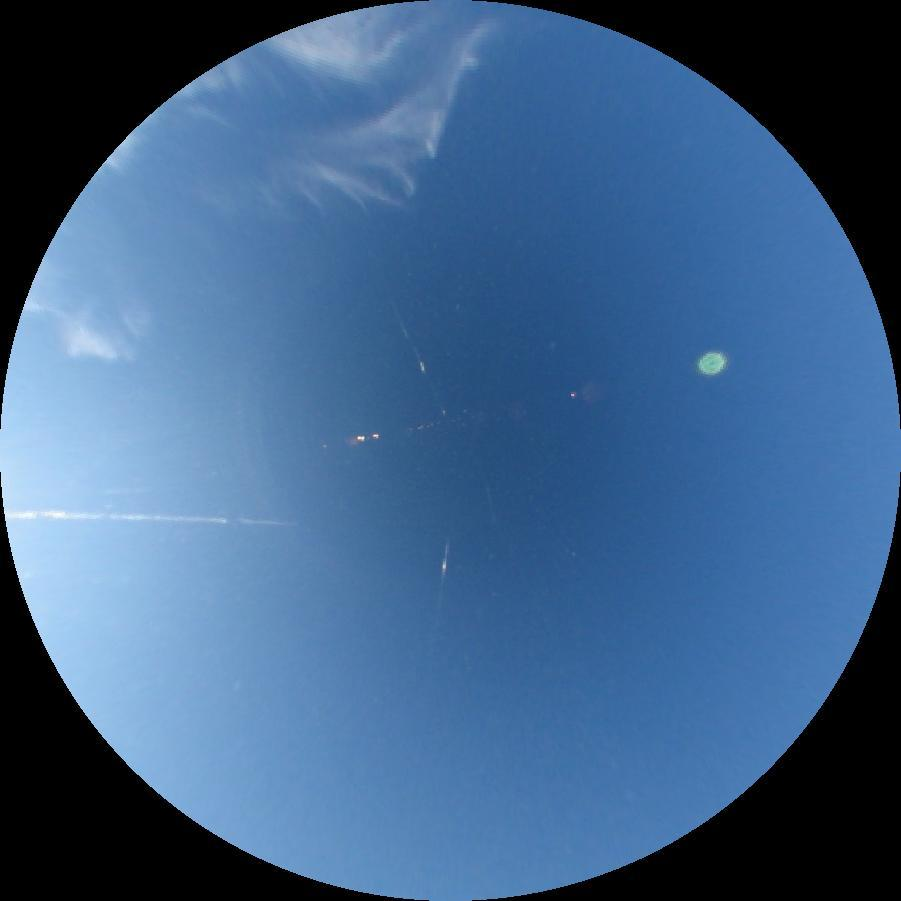parasite: (395, 309, 450, 418), (8, 509, 295, 526), (436, 529, 451, 626)
